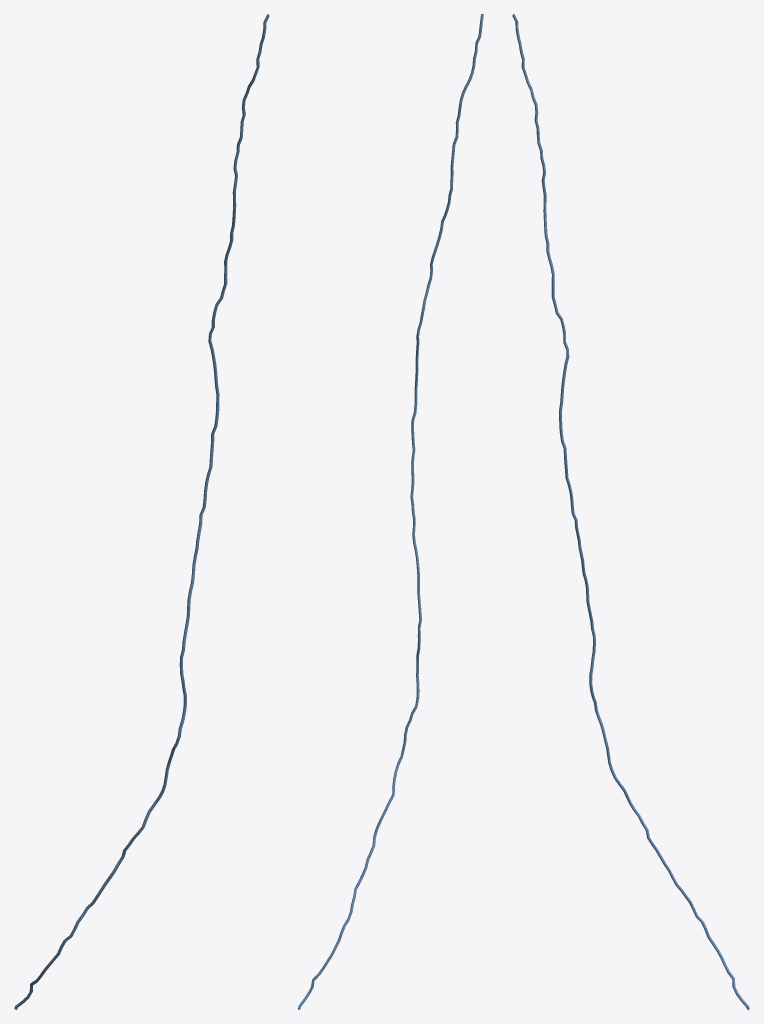
Rendered from sweep26.fbx.
The picture shows the model from 3 angles, left to right: view 1: azimuth 90°, elevation 25°; view 2: azimuth 150°, elevation 25°; view 3: azimuth 270°, elevation 25°; orthographic projection. The views are drawn at different scales.
Parts seen in each view (by area): view 1: sweep26; view 2: sweep26; view 3: sweep26.
Boxes of the visible parts, x1,y1,x2,y2 form: sweep26: [14, 14, 269, 1009]; sweep26: [298, 14, 483, 1009]; sweep26: [512, 14, 749, 1009].
Bounding box in the file's own units: 0.5788 × 7.08 × 1.59.
